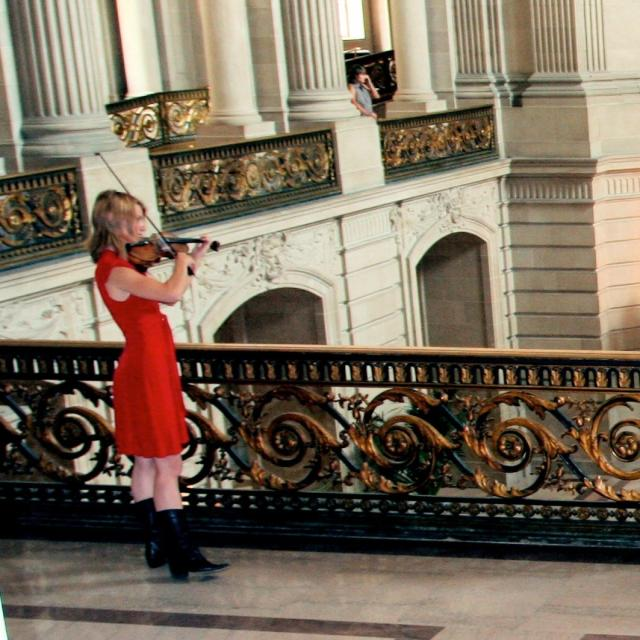violin: (121, 228, 226, 268)
